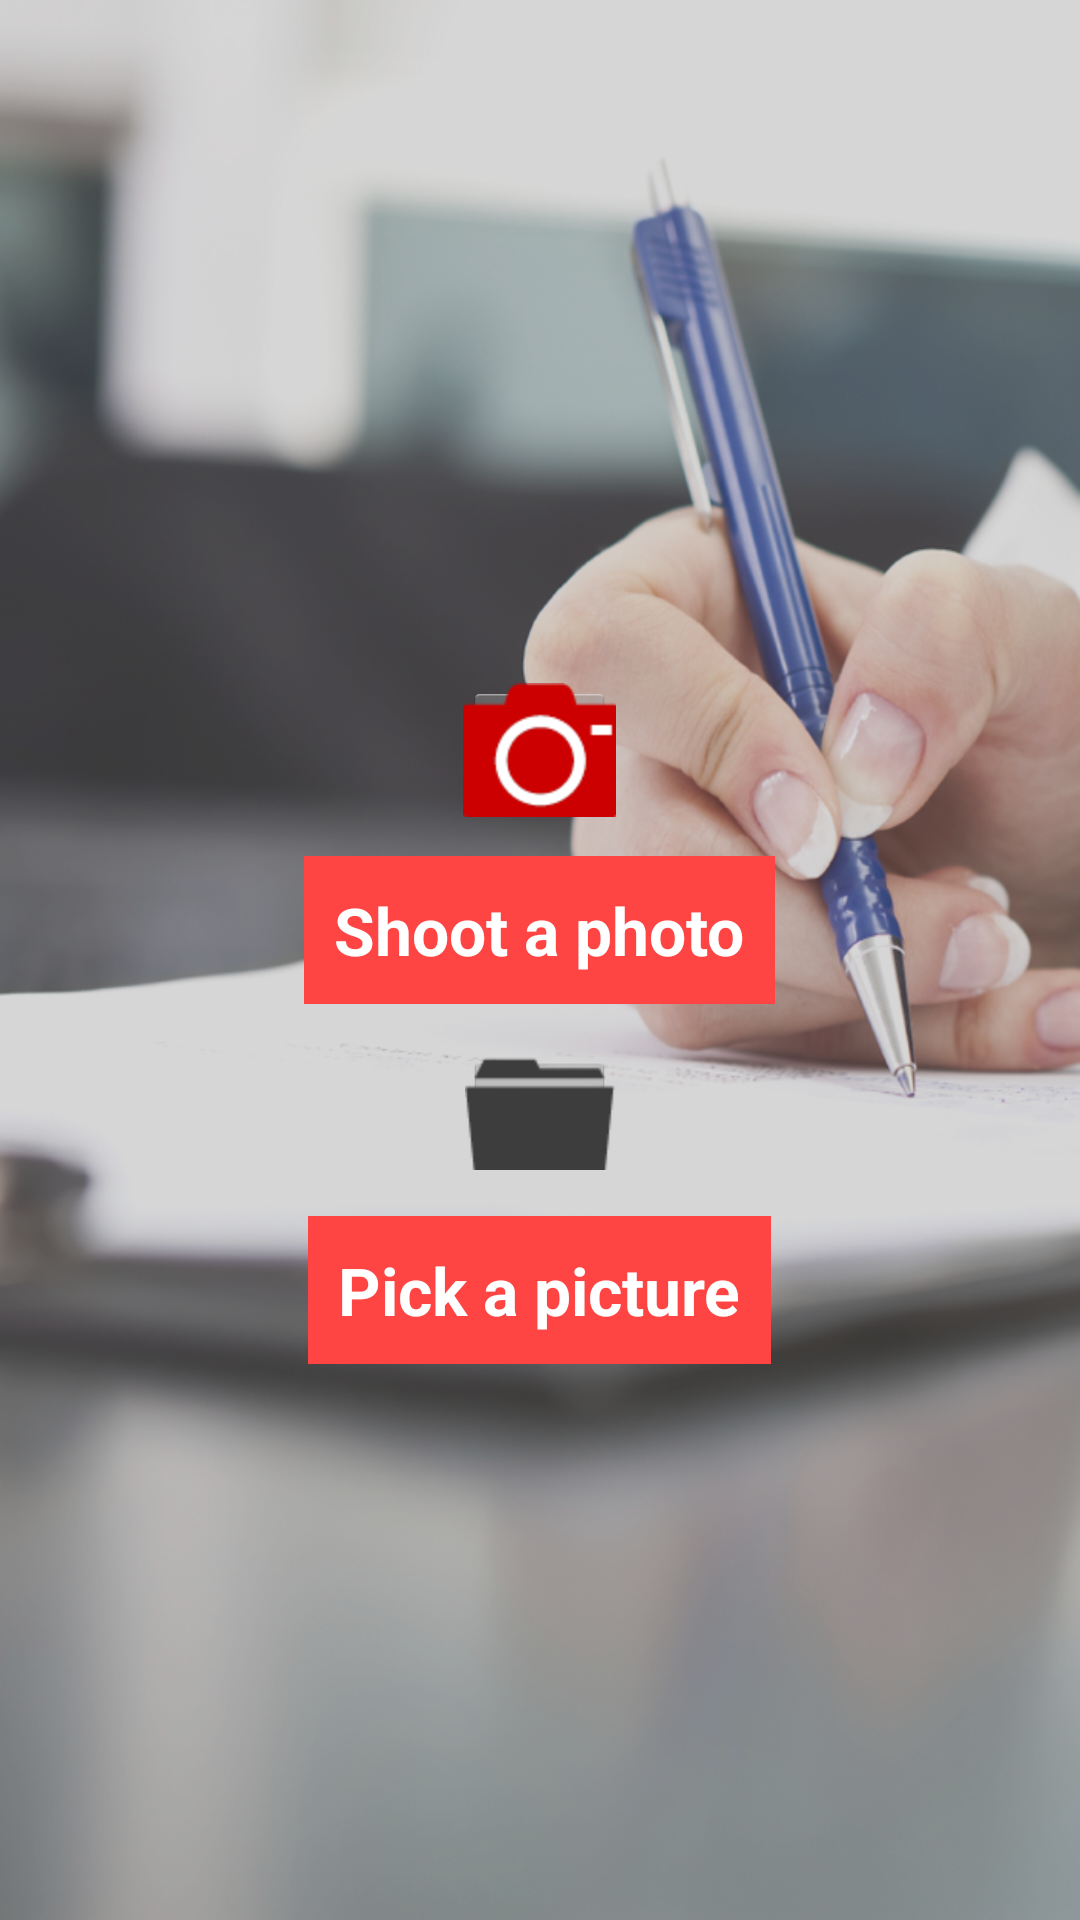

Screen size 1080w x 1920h. Icon name, then its box in pixels as detection(x1, y1, x2, y2):
folder: detection(465, 1058, 615, 1170)
